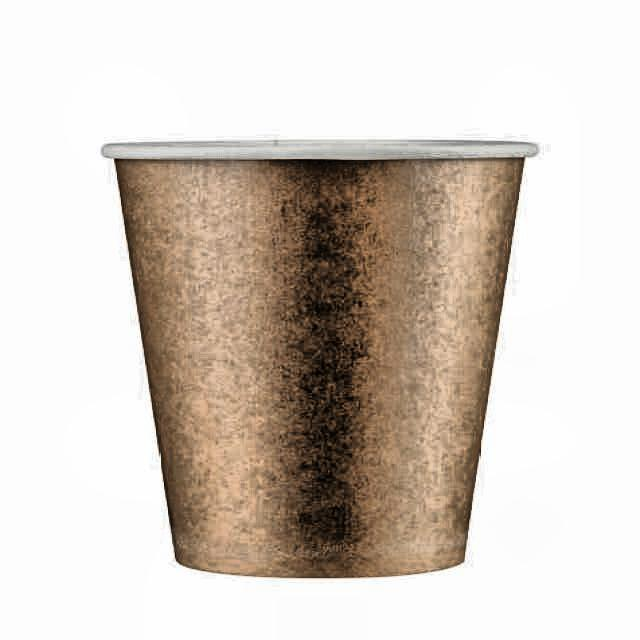cardboard: (99, 136, 540, 581)
